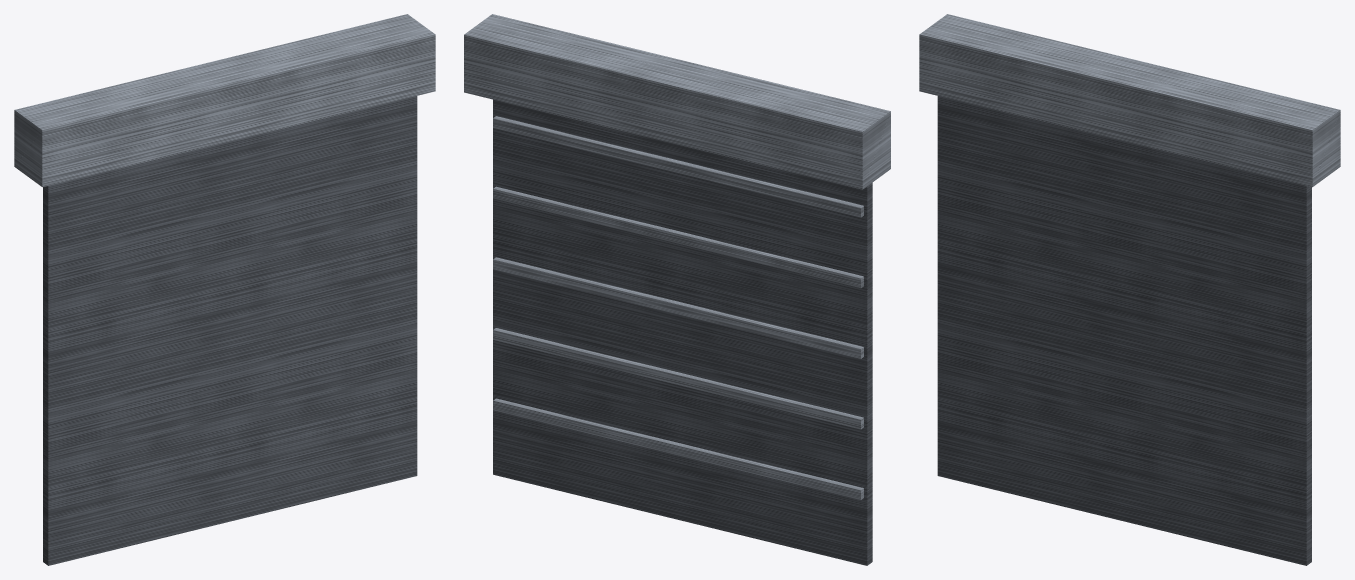
The model's file is shop_shutter.fbx.
The picture shows the model from 3 angles, left to right: view 1: azimuth 30°, elevation 25°; view 2: azimuth 150°, elevation 25°; view 3: azimuth 330°, elevation 25°; orthographic projection.
Parts seen in each view (by area): view 1: shop_shutter; view 2: shop_shutter; view 3: shop_shutter.
Part boxes in pixels (x1,y1,x2,y2): shop_shutter: [14, 14, 435, 565]; shop_shutter: [464, 14, 890, 565]; shop_shutter: [919, 14, 1340, 565].
Bounding box in the file's own units: 260 × 280 × 32.
